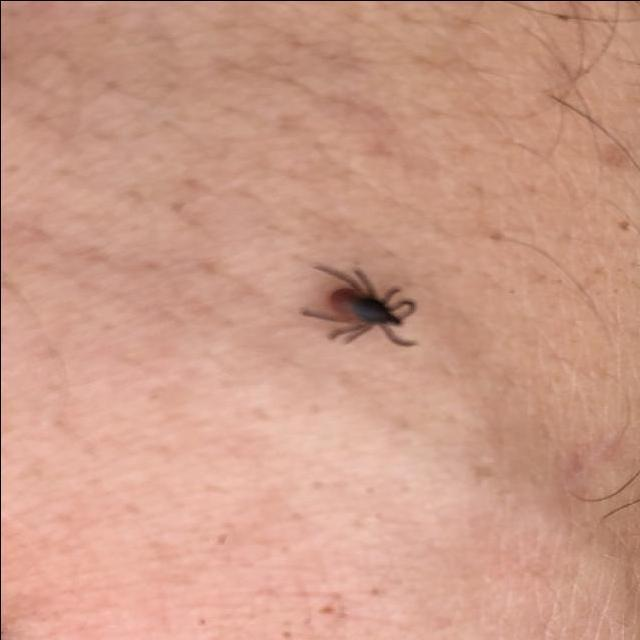Ixodes Ricinus-F: (297, 261, 418, 347)
